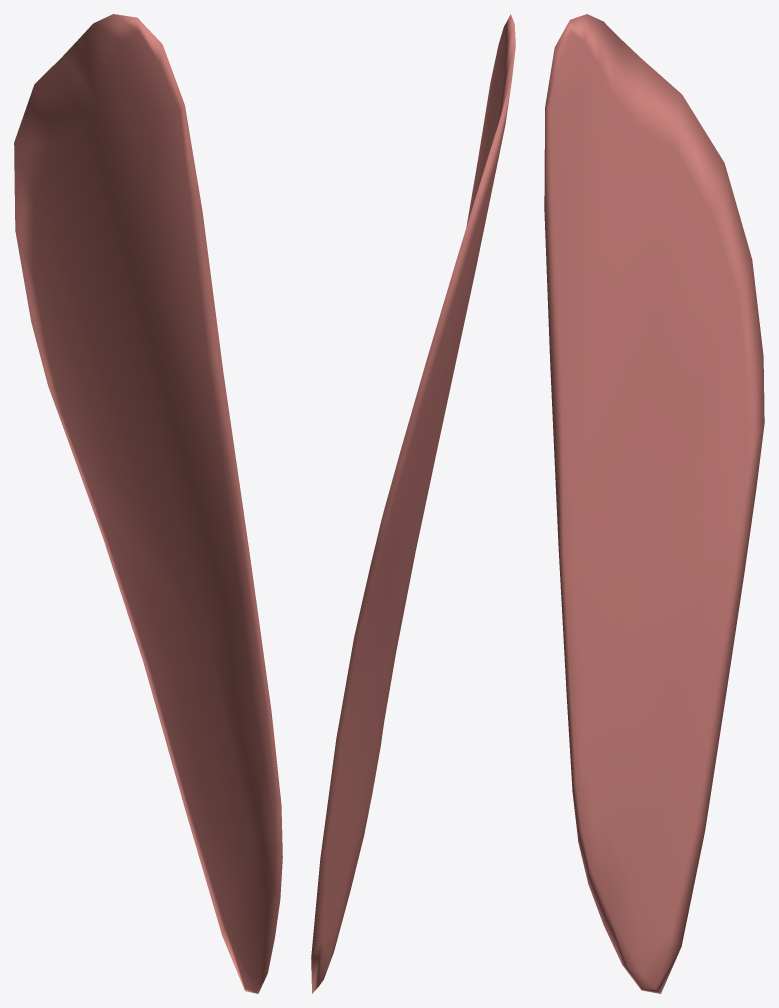
The picture shows the model from 3 angles, left to right: view 1: azimuth 30°, elevation 25°; view 2: azimuth 150°, elevation 25°; view 3: azimuth 270°, elevation 25°; orthographic projection. The views are drawn at different scales.
Parts seen in each view (by area): view 1: ZA_3971cb8106aef386; view 2: ZA_3971cb8106aef386; view 3: ZA_3971cb8106aef386.
Boxes of the visible parts, box(x1,y1,x2,y2) form: ZA_3971cb8106aef386: box(14, 14, 282, 993); ZA_3971cb8106aef386: box(311, 14, 515, 993); ZA_3971cb8106aef386: box(544, 14, 764, 993).
Size of the model in its own units: 0.00905 by 0.0448 by 0.00987.
